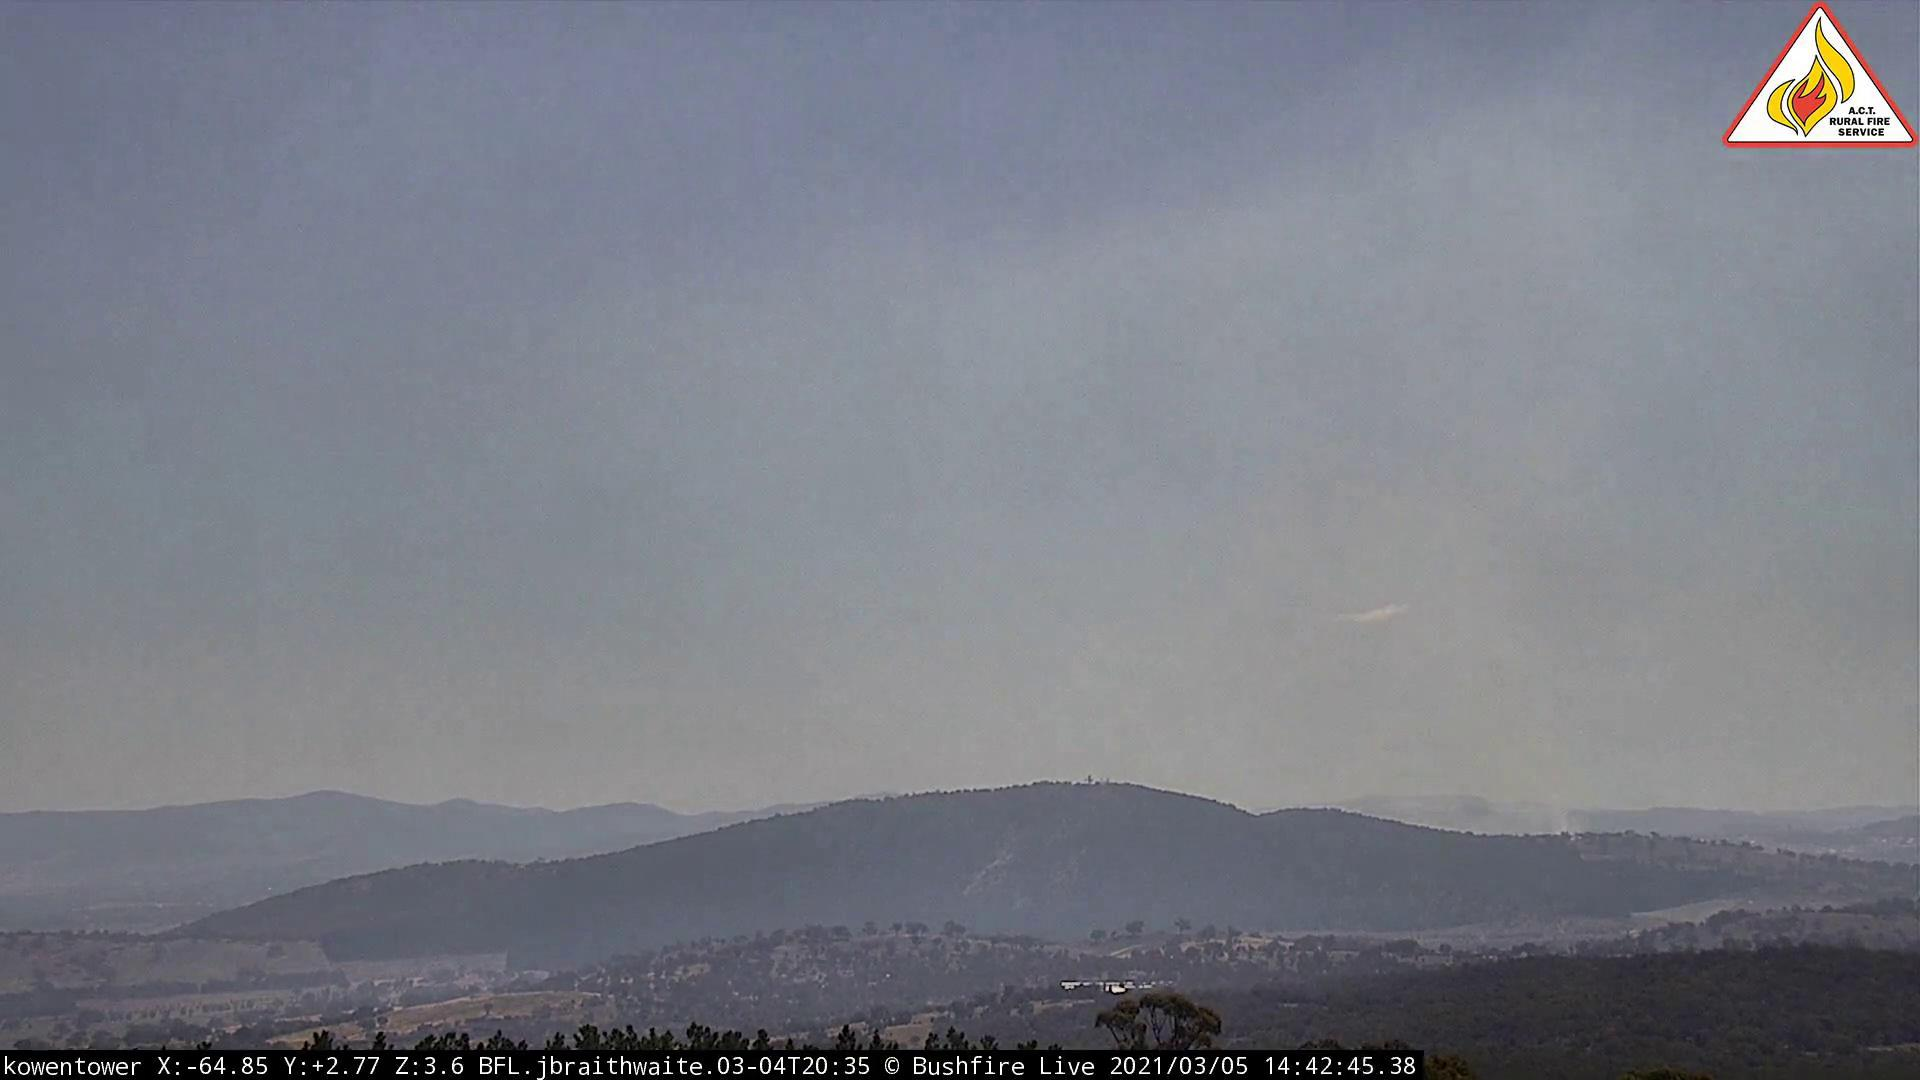Smoke: (1333, 587, 1598, 848)
